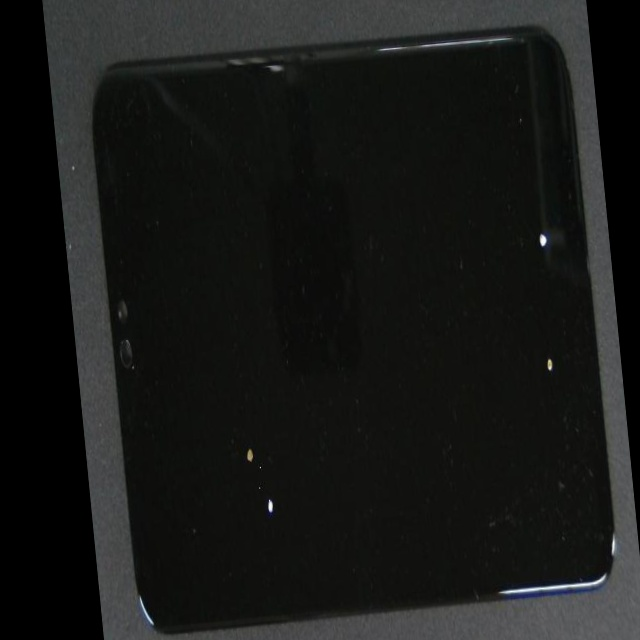stain: (298, 91, 637, 556), (277, 19, 622, 404), (138, 192, 365, 640), (143, 139, 344, 640)
